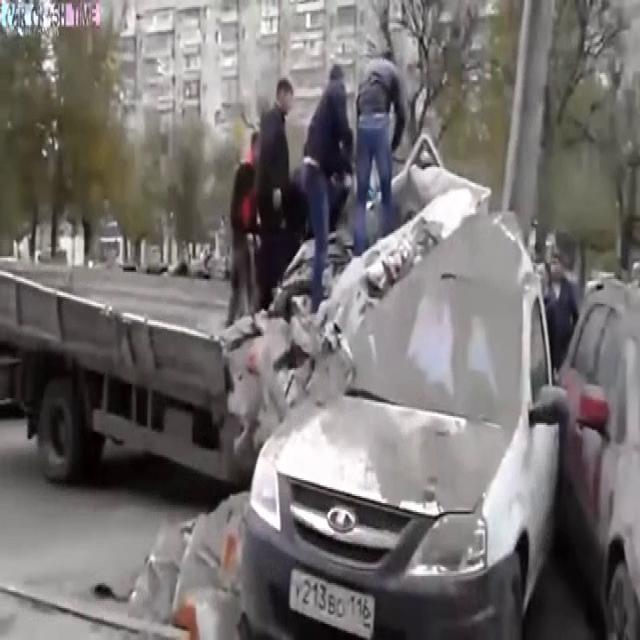accident: (213, 209, 480, 585)
